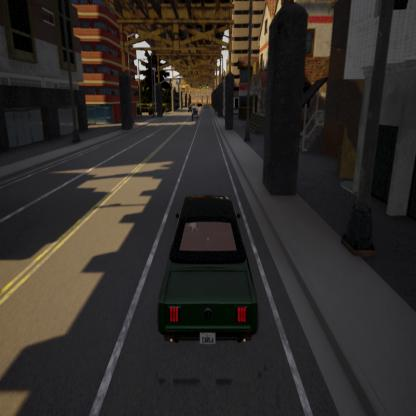Cars: (153, 185, 262, 352), (190, 102, 200, 122), (188, 101, 194, 113)
